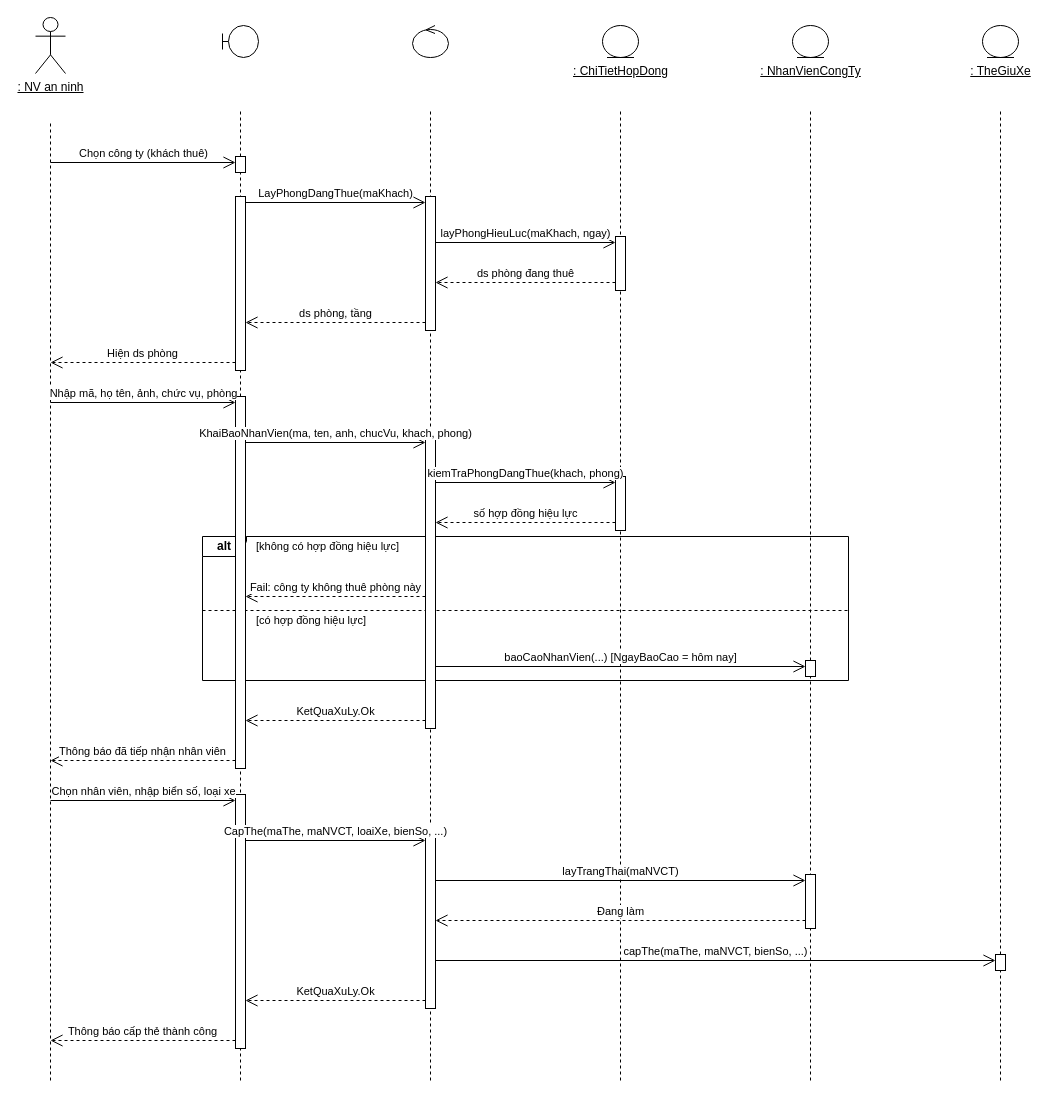
Image size: 1047x1099. Some labels were removed from this diagram. Each missing label, with the centre of its shape:
": FrmNhanVienCongTy" belongs at point 240,41.
": NhanVienCongTyService" belongs at point 430,41.
